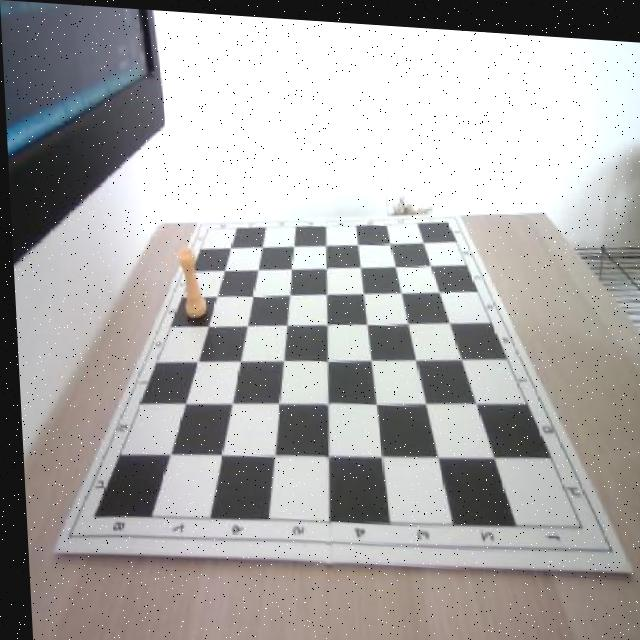white-queen: (173, 243, 205, 318)
